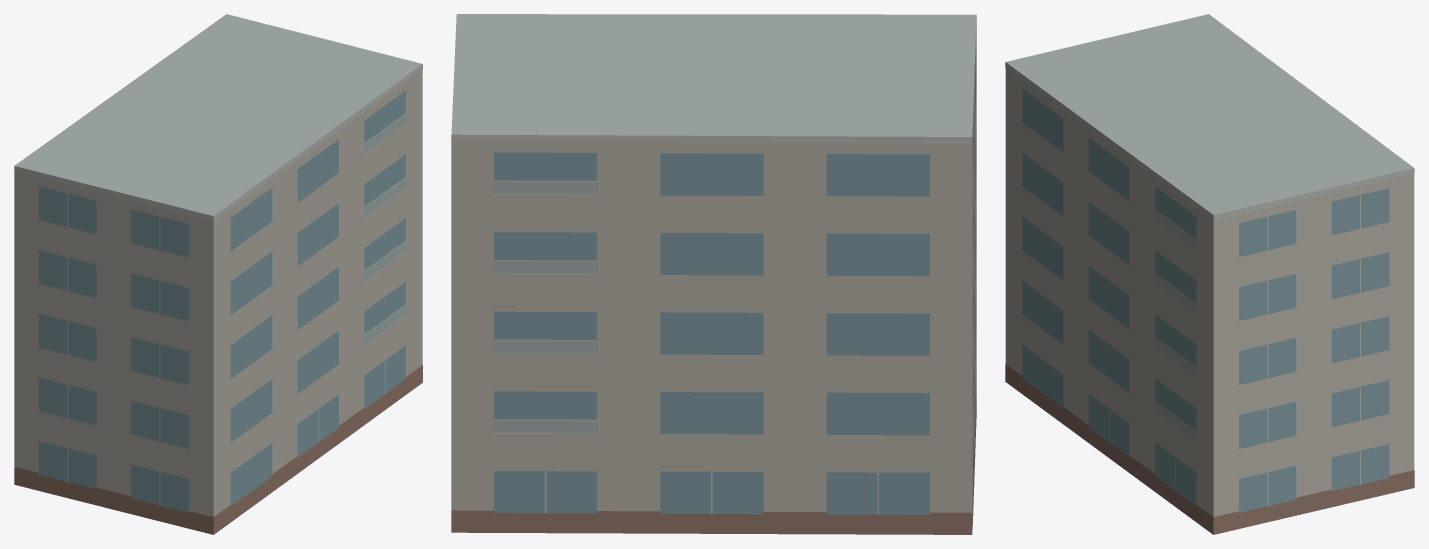
The model's file is survey-upis-32722773.glb.
The picture shows the model from 3 angles, left to right: view 1: azimuth 30°, elevation 25°; view 2: azimuth 150°, elevation 25°; view 3: azimuth 270°, elevation 25°; orthographic projection. The views are drawn at different scales.
Parts seen in each view (by area): view 1: survey-upis-32722773.tmp; view 2: survey-upis-32722773.tmp; view 3: survey-upis-32722773.tmp.
Part boxes in pixels (<box>): survey-upis-32722773.tmp: <box>14,14,422,534</box>; survey-upis-32722773.tmp: <box>451,14,976,534</box>; survey-upis-32722773.tmp: <box>1005,14,1414,534</box>.
Bounding box in the file's own units: 19.3 × 14.3 × 16.58.
